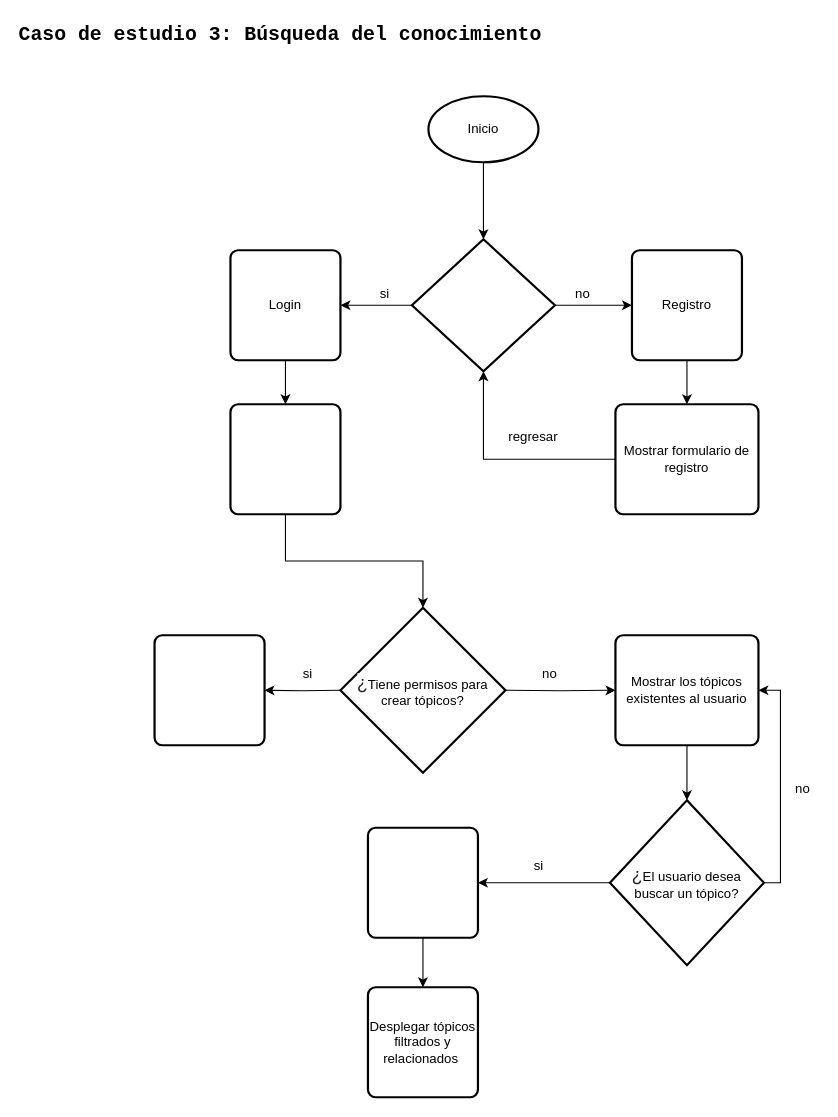
This 838x1117 diagram has some shape labels left out. The centre of each missing label's shape, as x and y in pixels:
Mostrar filtros de tópicos: (422,882)
Mostrar herramientas de edición y creación de tópicos: (209,690)
Mostrar pagina principal: (285,459)
¿ Está registrado?: (483,305)
